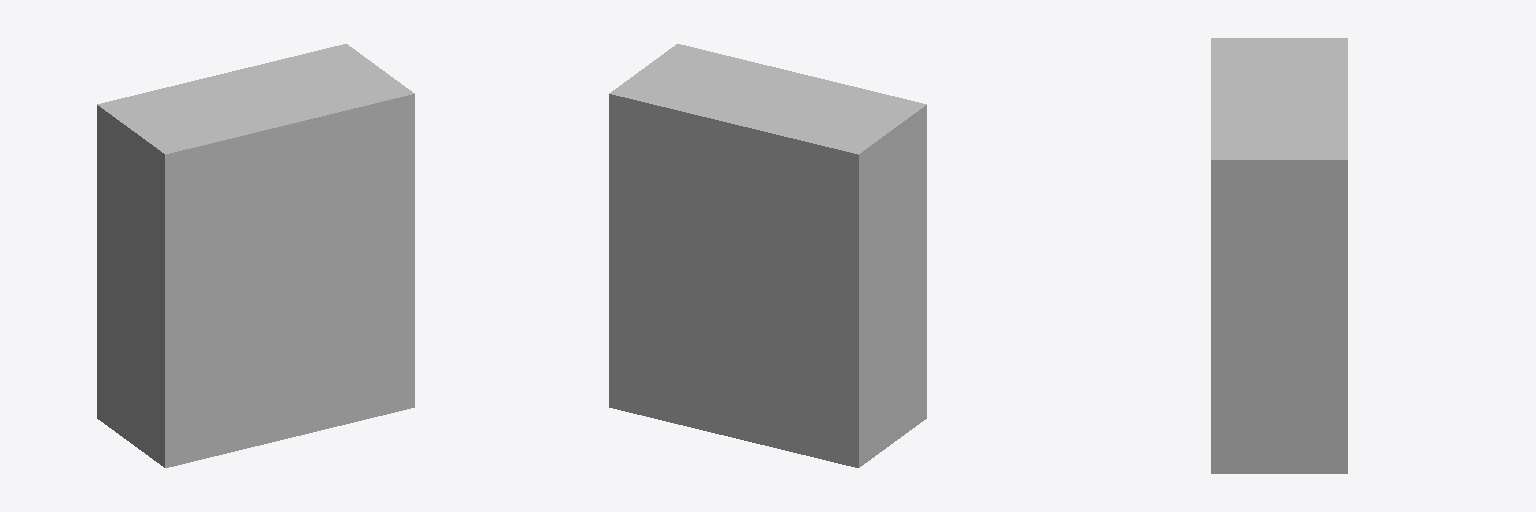
File: body.obj
3 views of the same model, side by side, from view 1: azimuth 30°, elevation 25°; view 2: azimuth 150°, elevation 25°; view 3: azimuth 270°, elevation 25° (orthographic).
Visible parts, largest first — view 1: body_Cube.001; view 2: body_Cube.001; view 3: body_Cube.001.
Part boxes in pixels (x1,y1,x2,y2): body_Cube.001: (97,44,414,467); body_Cube.001: (609,44,926,467); body_Cube.001: (1211,38,1347,473).
Bounding box in the file's own units: 1.62 × 1.94 × 0.7695.